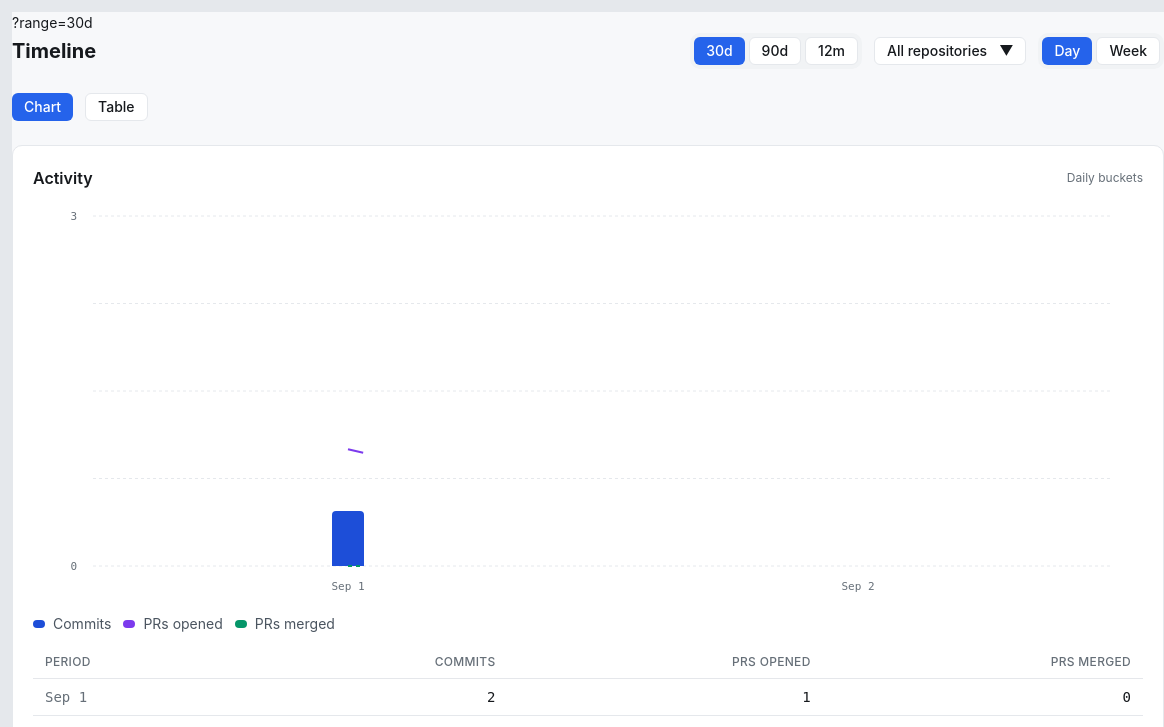
Scenario: Timeline URL synchronization (T5.2) › loads the repository filter list within the API limit (50)
Click the button named "Filter repositories" at point(950, 51), box left=874, top=37, right=1026, bottom=65
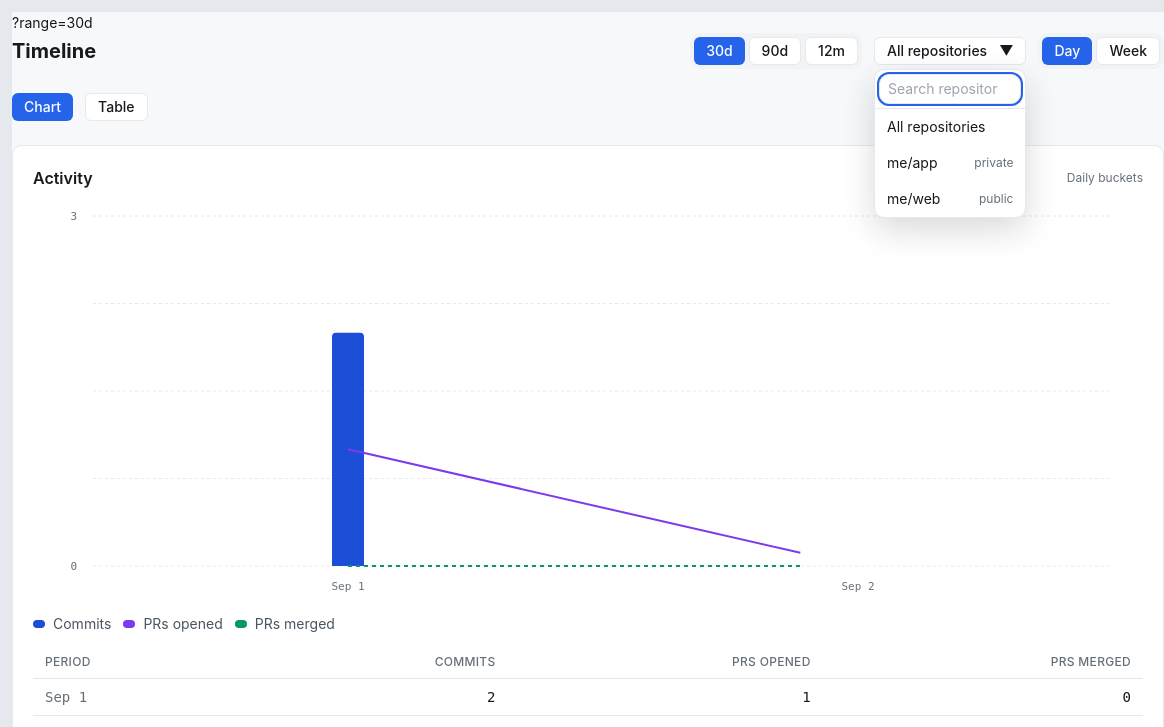
Check: the option "me/app private" is shown, box left=875, top=145, right=1026, bottom=181
Check: the option "me/web public" is shown, box left=875, top=181, right=1026, bottom=217
